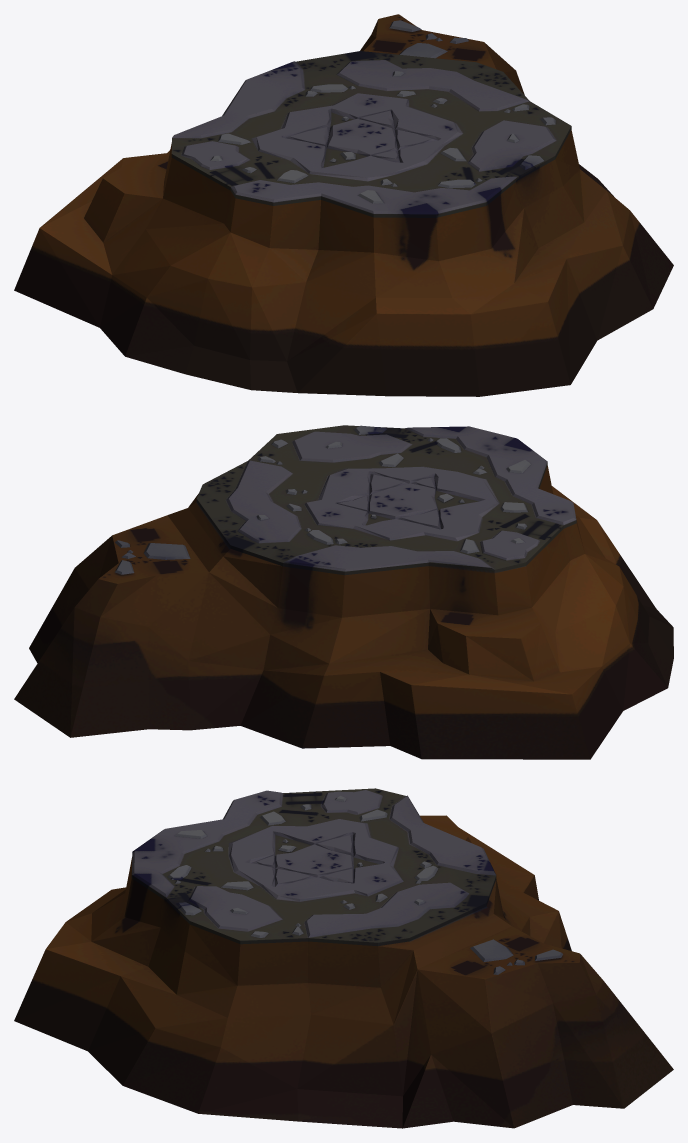
File: Ground_01.FBX
The picture shows the model from 3 angles, top to bottom: view 1: azimuth 30°, elevation 25°; view 2: azimuth 150°, elevation 25°; view 3: azimuth 270°, elevation 25°; orthographic projection. The views are drawn at different scales.
Visible parts, largest first — view 1: Ground_01; view 2: Ground_01; view 3: Ground_01.
Part boxes in pixels (x1,y1,x2,y2): Ground_01: (14, 14, 673, 396); Ground_01: (14, 425, 673, 759); Ground_01: (14, 788, 673, 1128).
Size of the model in its own units: 1259 by 319 by 1370.
